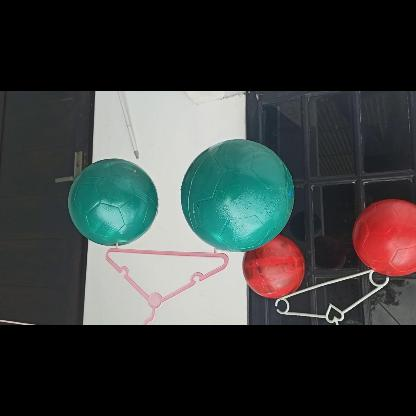red_ball: (354, 200, 415, 278), (246, 240, 306, 300)
